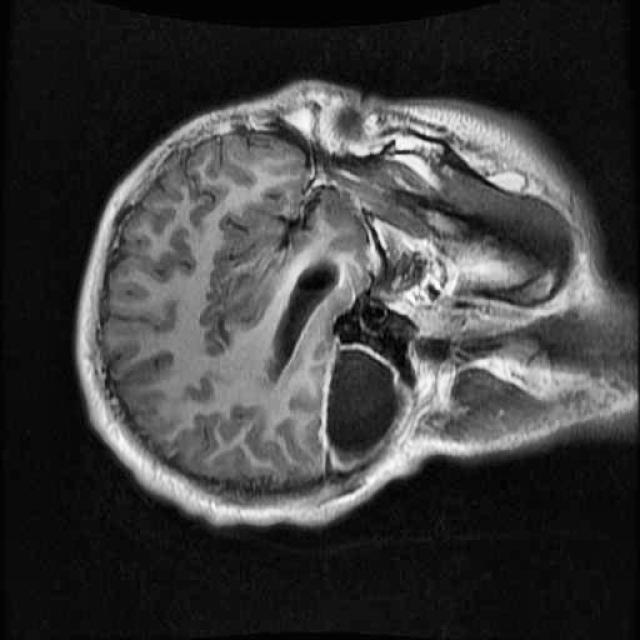Tumor: (306, 321, 415, 488)
